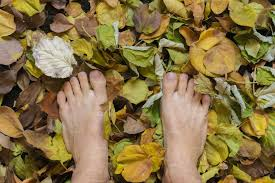feet: (52, 69, 114, 169), (160, 70, 213, 165)
